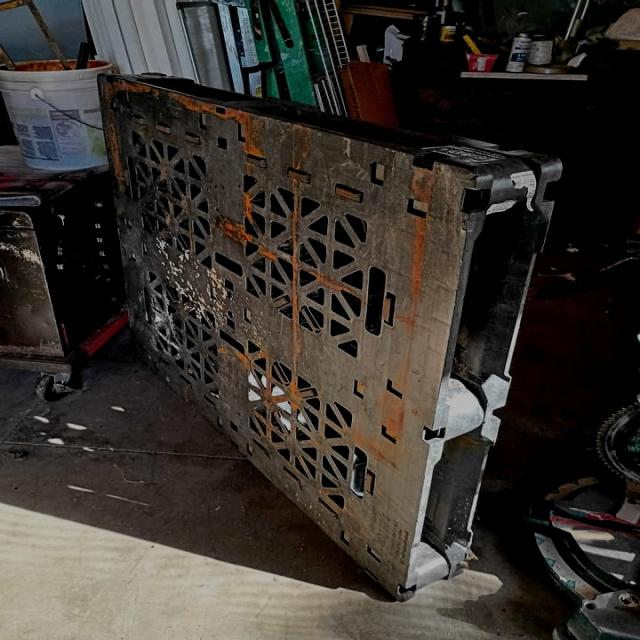igps: (78, 58, 570, 610)
